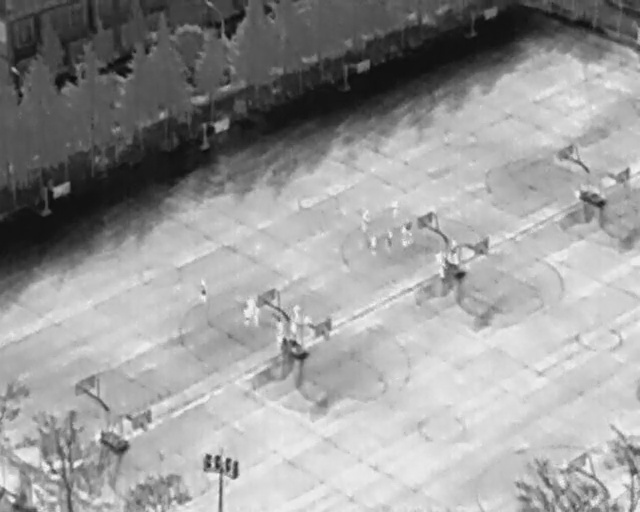DontCare: (274, 305, 317, 346)
Person: (402, 216, 413, 245), (449, 237, 458, 262), (199, 277, 207, 304), (363, 208, 371, 231), (386, 230, 394, 252), (370, 234, 378, 255), (438, 259, 446, 280), (243, 305, 251, 325), (392, 198, 398, 219)
